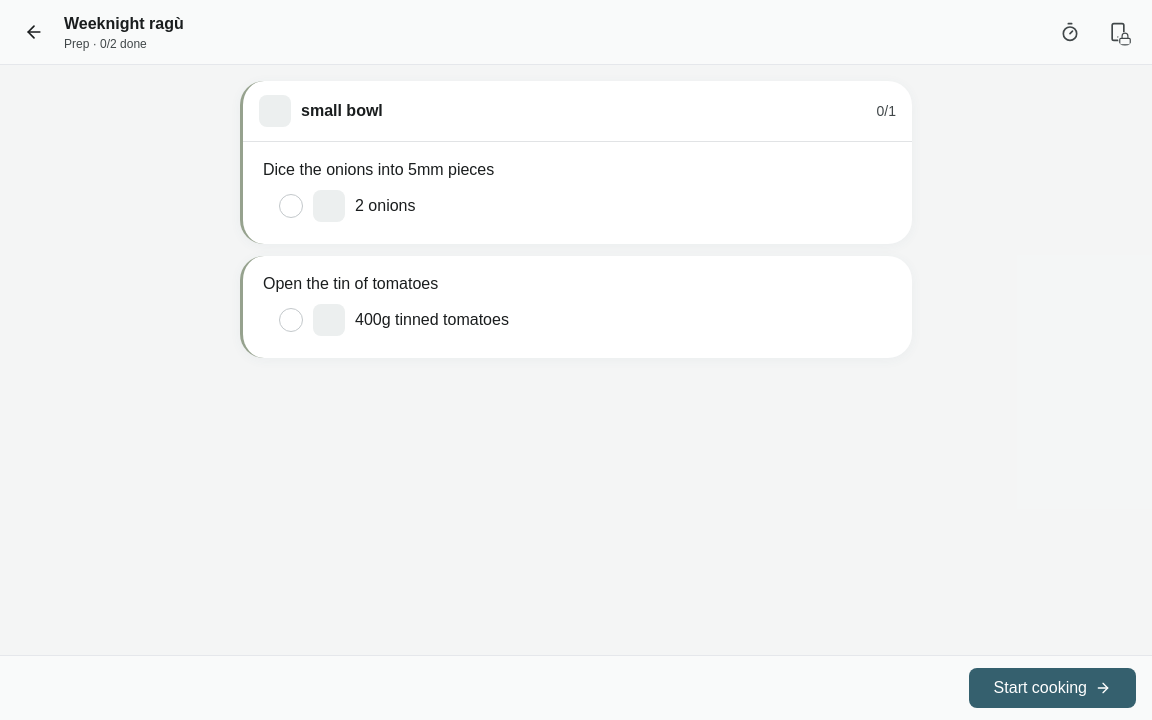
Test: GuidedCookPage — the steps carry the plan-s notes › omits a line the plan left null rather than inventing one
Click the button with test id "cook-stage-toggle" at (1052, 688), box left=969, top=668, right=1136, bottom=708
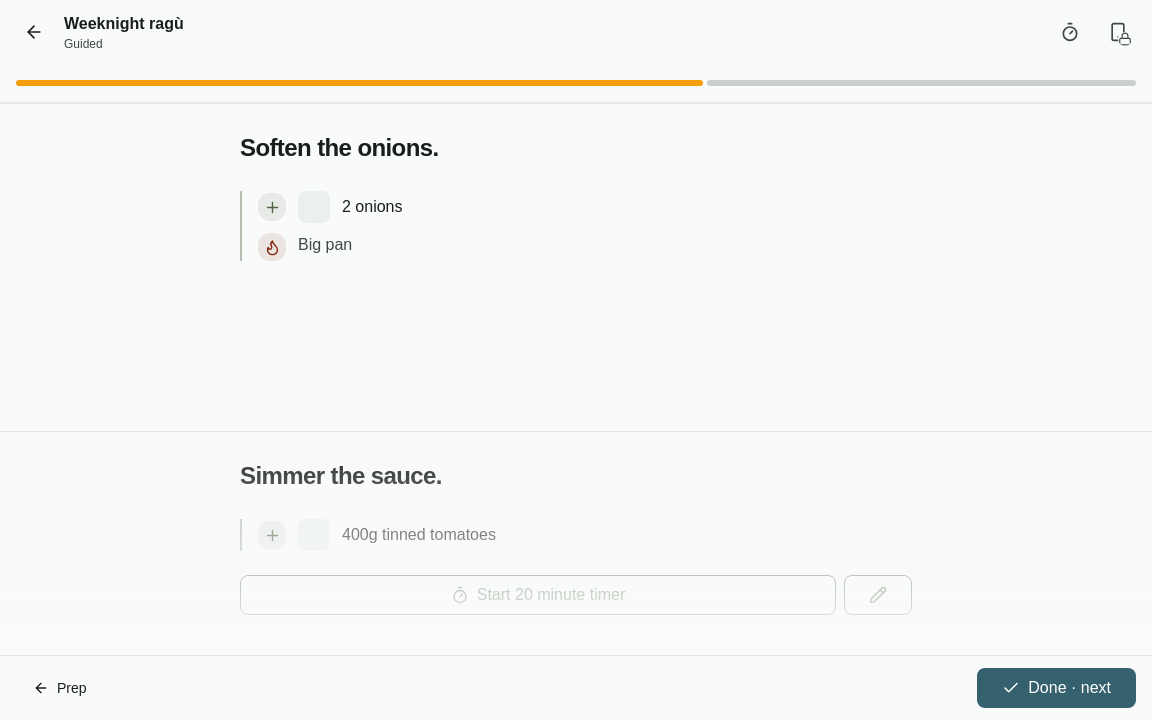
Result: the element with test id "cook-steps-view" is shown
Result: the list item with test id "guided-step-note-setup" reads "Big pan" at left=298, top=236, right=352, bottom=253
